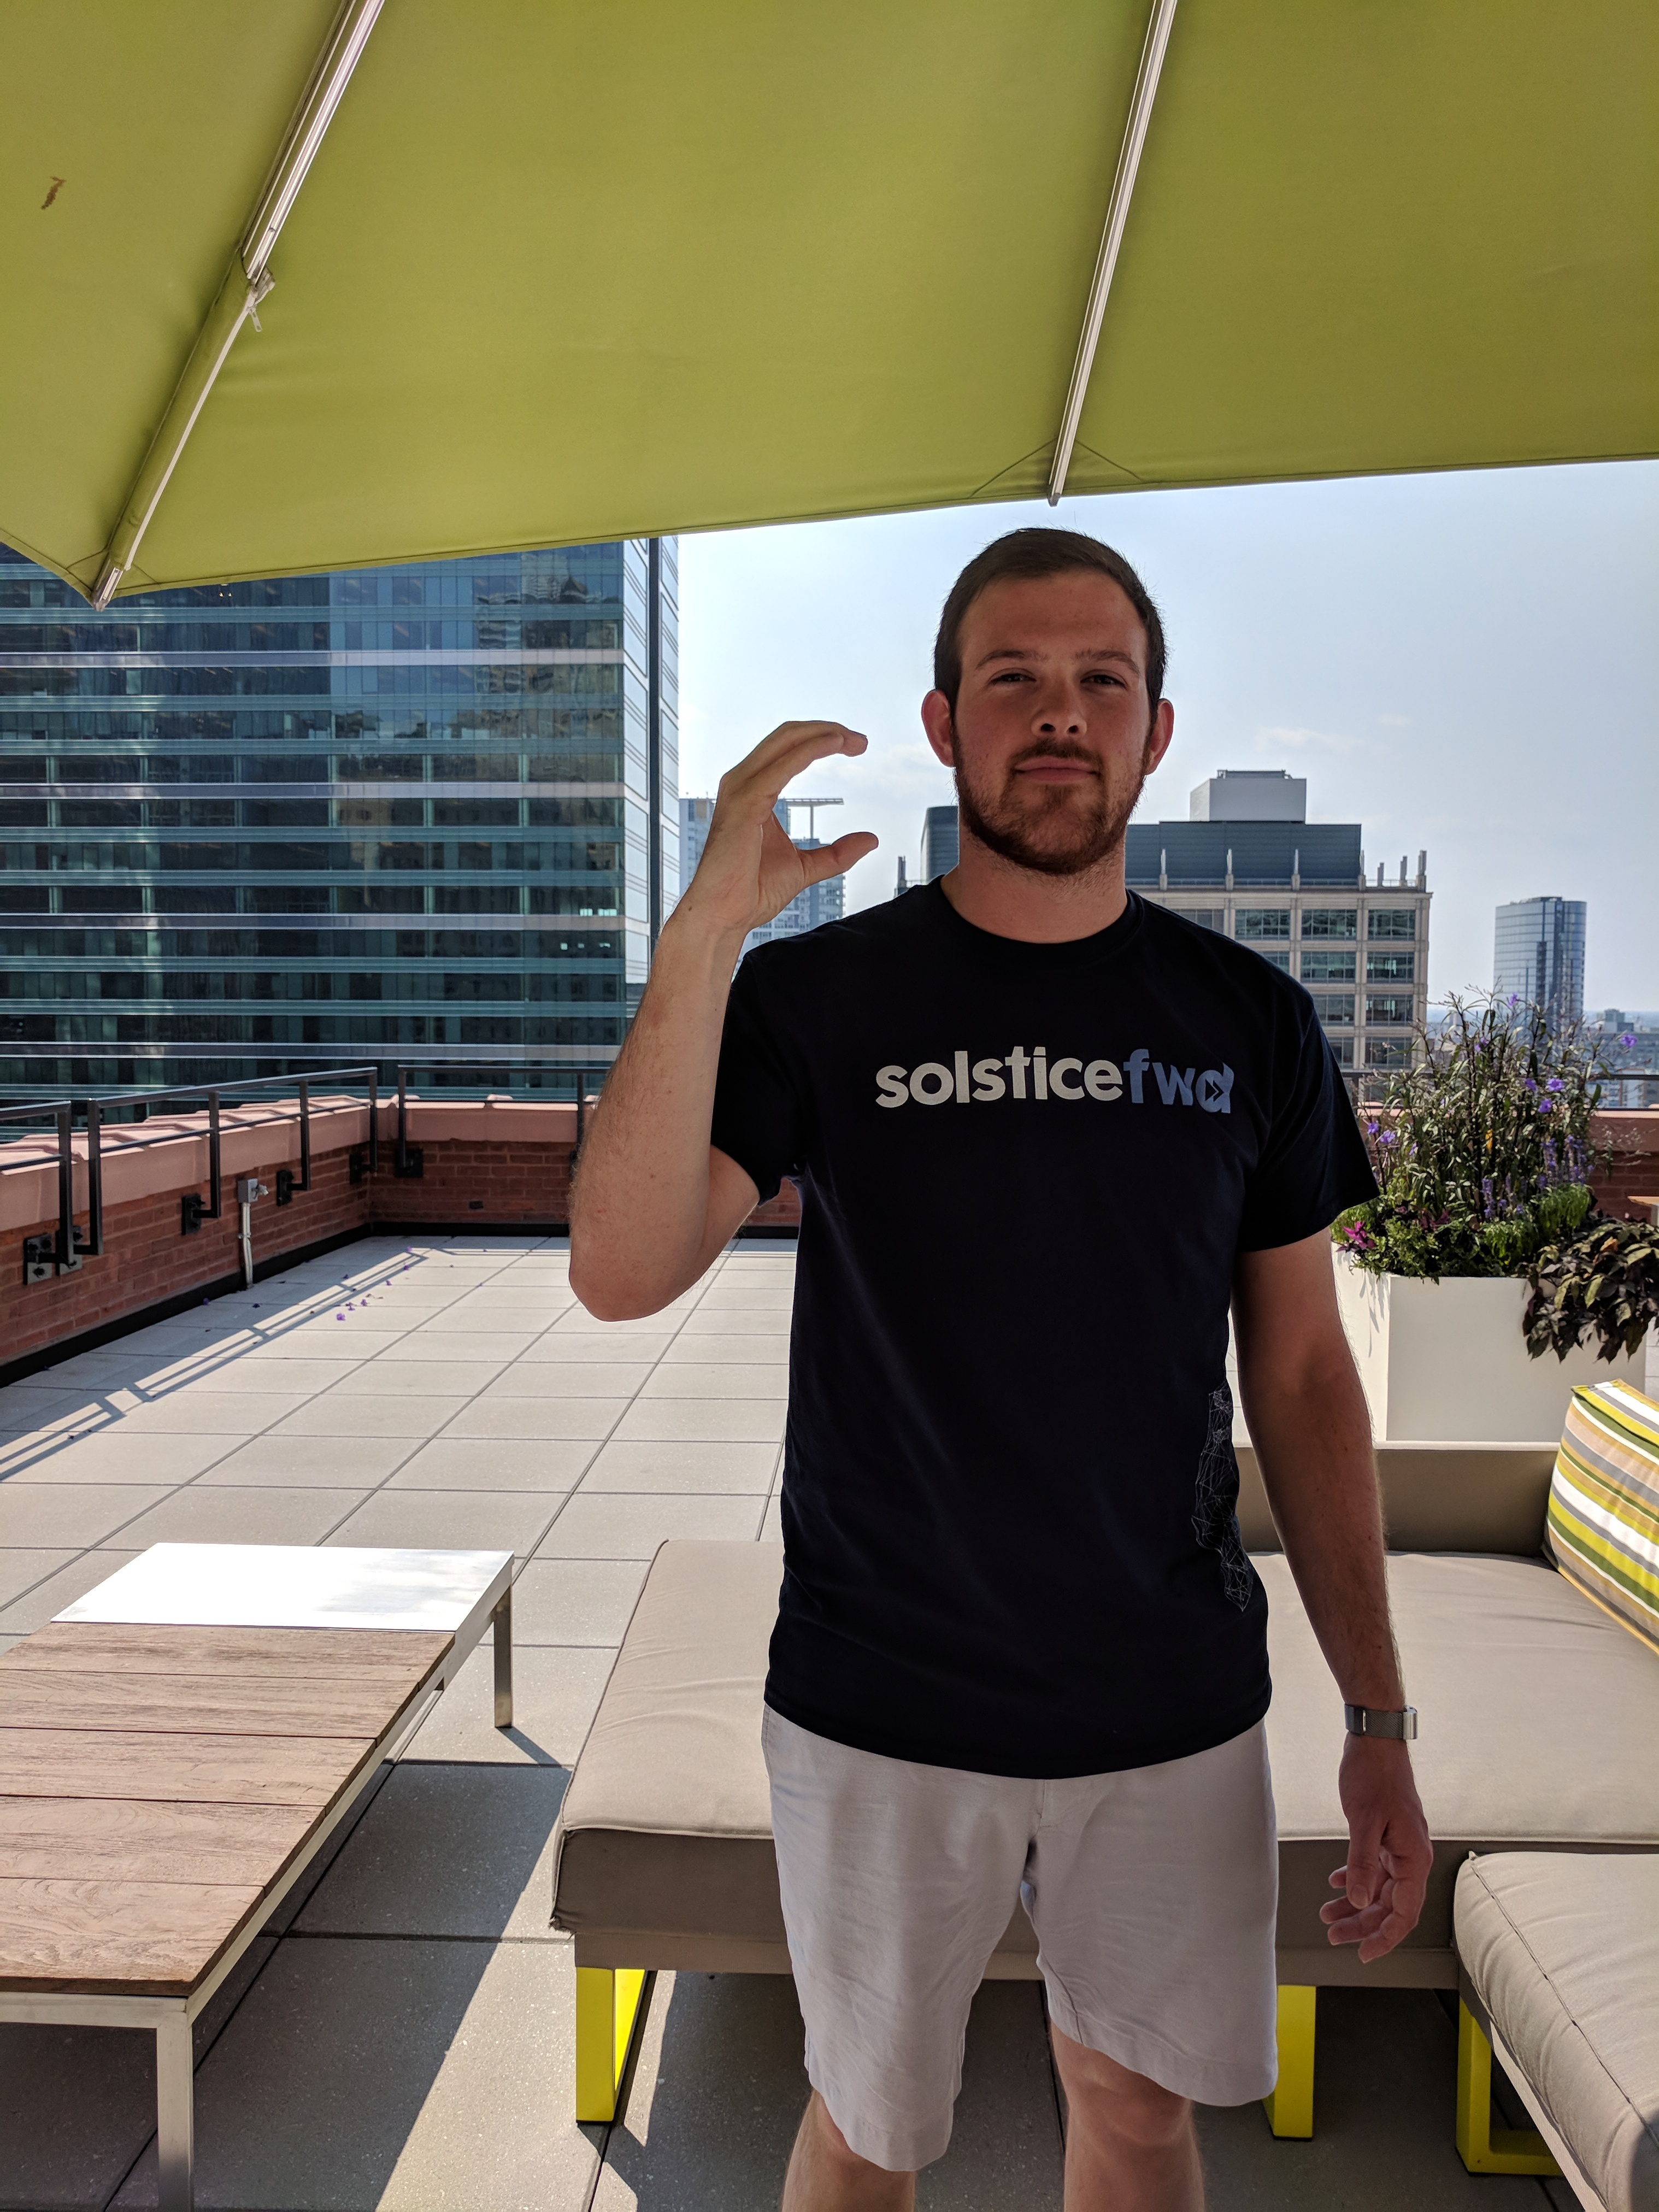c: (692, 714, 903, 916)
